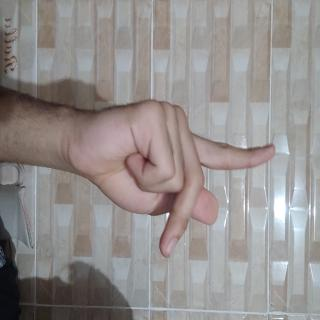DHAA: (69, 55, 198, 320)
